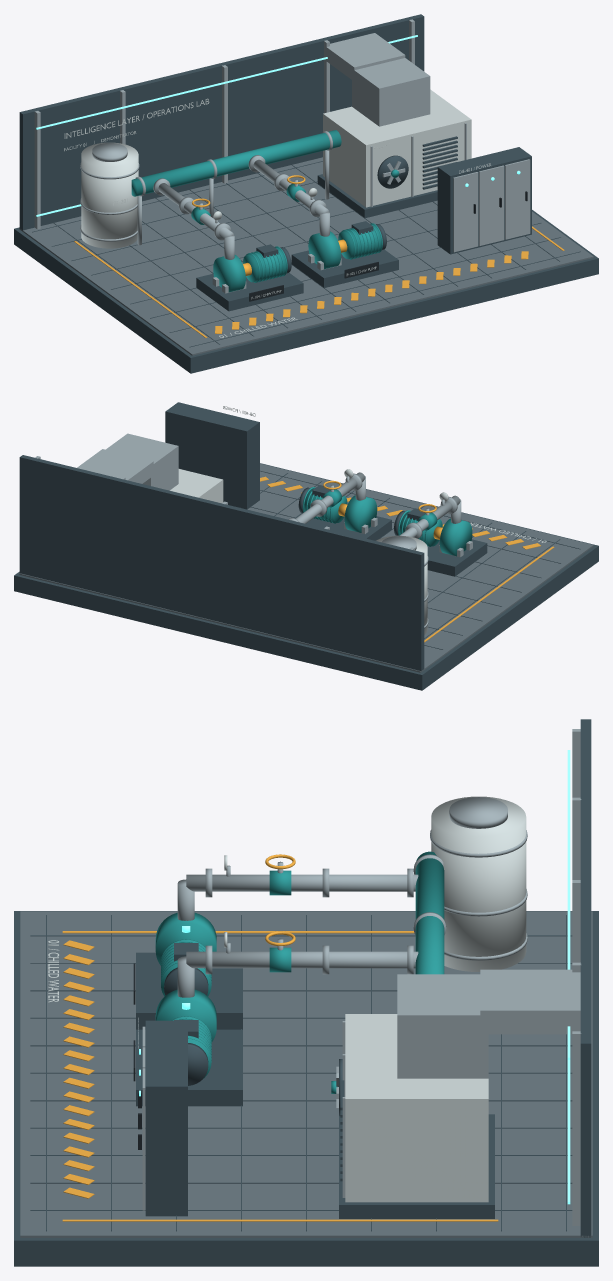
The model's file is operations-lab.glb.
3 renders of one model, top to bottom at view 1: azimuth 30°, elevation 25°; view 2: azimuth 150°, elevation 25°; view 3: azimuth 270°, elevation 25°, orthographic. The views are drawn at different scales.
Visible parts, largest first — view 1: Plant room deck, Rear wall, Foundation, Air handling unit, Buffer tank, Supply duct, CHW header, Switchboard, Duct return, Cabinet door.002, Cabinet door, Cabinet door.001 (+17 smaller); view 2: Rear wall, Plant room deck, Foundation, Switchboard, Supply duct, Duct return, P-104 skid, Air handling unit, Pump casing, Pump casing.001, P-105 skid, Discharge line.001 (+4 smaller); view 3: Plant room deck, Foundation, Air handling unit, Buffer tank, Supply duct, Switchboard, Duct return, Rear wall, P-105 skid, P-104 skid, AHU plinth, Discharge line (+12 smaller).
Part boxes in pixels (box(x1,y1,x2,y2)): Plant room deck: box(19, 157, 593, 355); Rear wall: box(19, 14, 424, 230); Foundation: box(14, 210, 598, 373); Air handling unit: box(323, 89, 471, 207); Buffer tank: box(81, 142, 138, 248); Supply duct: box(352, 58, 430, 126); CHW header: box(131, 130, 341, 196); Switchboard: box(437, 147, 531, 254); Duct return: box(324, 33, 405, 79); Cabinet door.002: box(505, 159, 530, 239); Cabinet door: box(453, 172, 478, 252); Cabinet door.001: box(479, 165, 504, 245); Rear wall: box(19, 455, 424, 671); Plant room deck: box(19, 463, 593, 672); Foundation: box(14, 463, 598, 690); Switchboard: box(165, 402, 259, 509); Supply duct: box(106, 433, 178, 490); Duct return: box(77, 449, 153, 483); P-104 skid: box(427, 539, 487, 576); Air handling unit: box(170, 469, 223, 503); Pump casing: box(439, 518, 472, 556); Pump casing.001: box(344, 495, 377, 532); P-105 skid: box(294, 513, 391, 540); Discharge line.001: box(296, 472, 365, 523); Plant room deck: box(20, 911, 592, 1237); Foundation: box(14, 911, 598, 1266); Air handling unit: box(345, 1014, 488, 1202); Buffer tank: box(431, 796, 526, 971); Supply duct: box(397, 974, 488, 1078); Switchboard: box(145, 1020, 187, 1216); Duct return: box(480, 969, 580, 1034); Rear wall: box(580, 719, 591, 1237); P-105 skid: box(136, 1029, 242, 1106); P-104 skid: box(136, 952, 242, 1029); AHU plinth: box(339, 1114, 494, 1218); Discharge line: box(186, 874, 418, 891).
Size of the model in its own units: 12 by 3.74 by 9.
